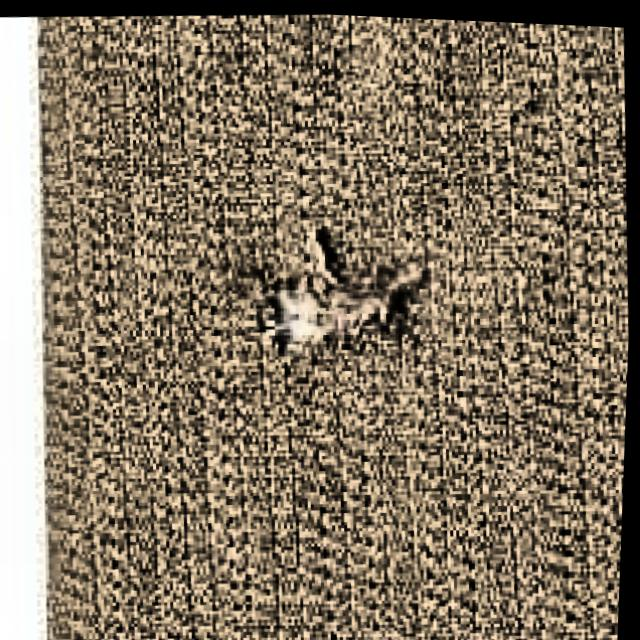Hole: (217, 190, 453, 381)
